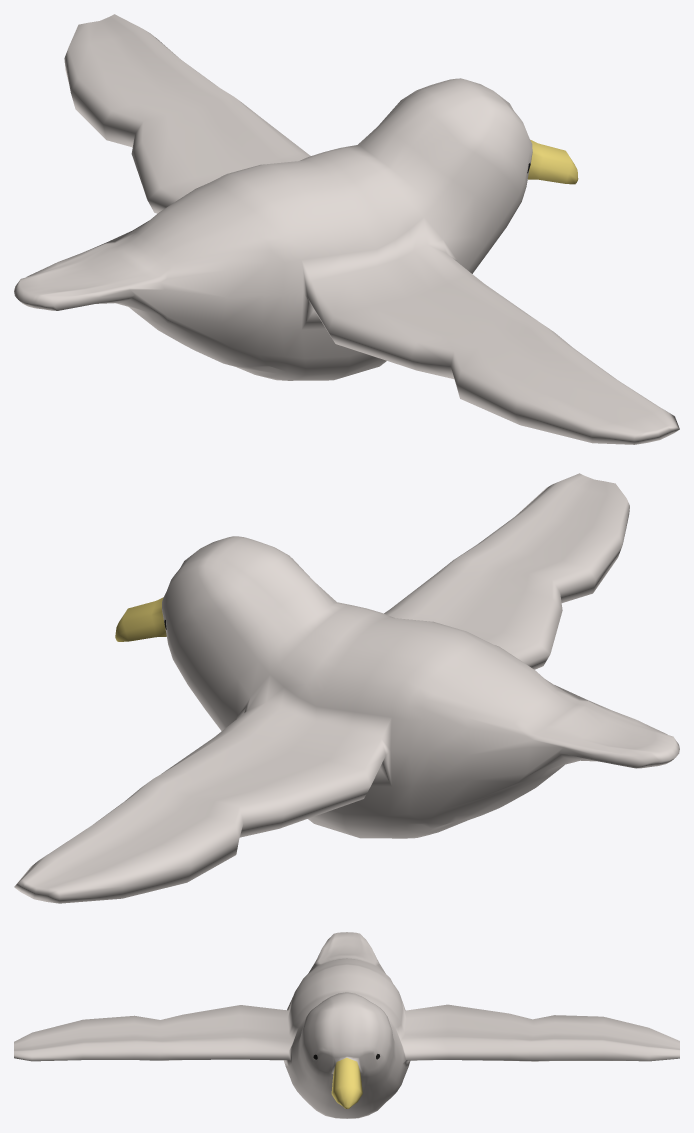
The model's file is atoll_bird_flying.fbx.
3 renders of one model, top to bottom at view 1: azimuth 30°, elevation 25°; view 2: azimuth 150°, elevation 25°; view 3: azimuth 270°, elevation 25°, orthographic. The views are drawn at different scales.
Parts seen in each view (by area): view 1: bird_flying; view 2: bird_flying; view 3: bird_flying.
Boxes of the visible parts, x1=… form: bird_flying: x1=14, y1=14, x2=679, y2=444; bird_flying: x1=14, y1=473, x2=679, y2=903; bird_flying: x1=14, y1=932, x2=679, y2=1118.
Bounding box in the file's own units: 0.2106 × 0.0891 × 0.3631.
